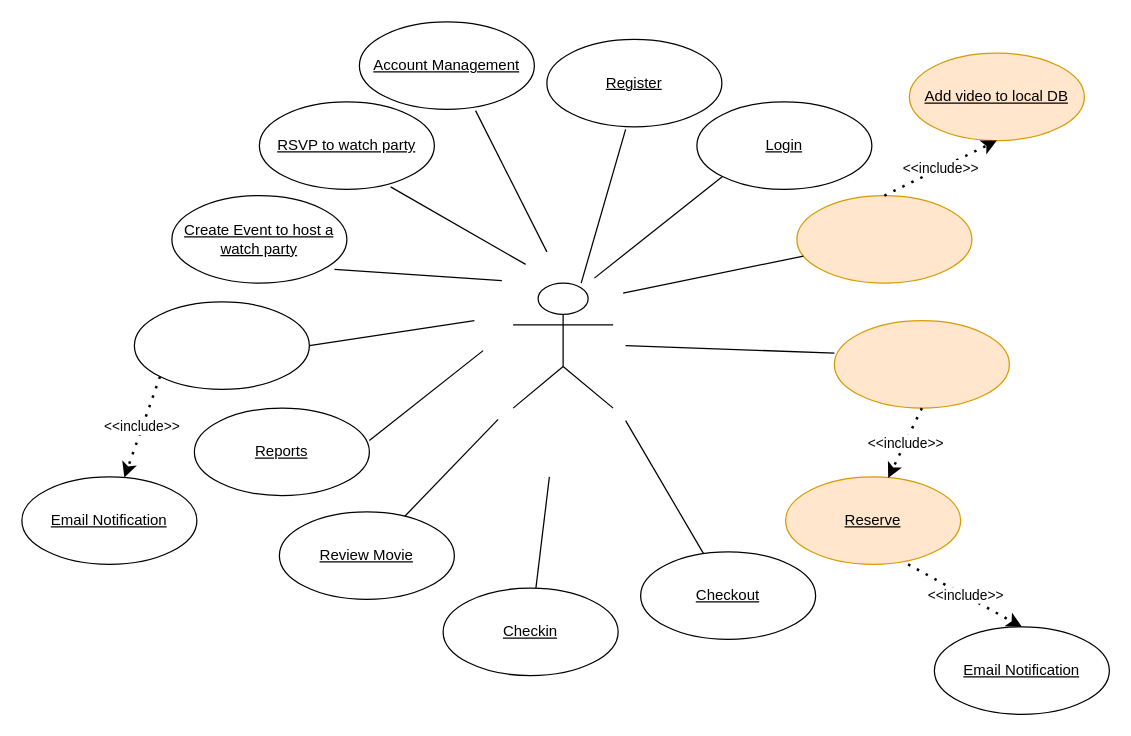
The diagram is 1131 pixels wide and 736 high, and some of its shapes have lost their labels. Here are the shapes that lost their labels. From the top down, the centre of each, then its label:
At point 884,238: "Search video to add".
At point 221,345: "Send Invitation".
At point 562,345: "User / Organizer Friends / Family Neighbor".
At point 921,363: "Search available video to checkout".
